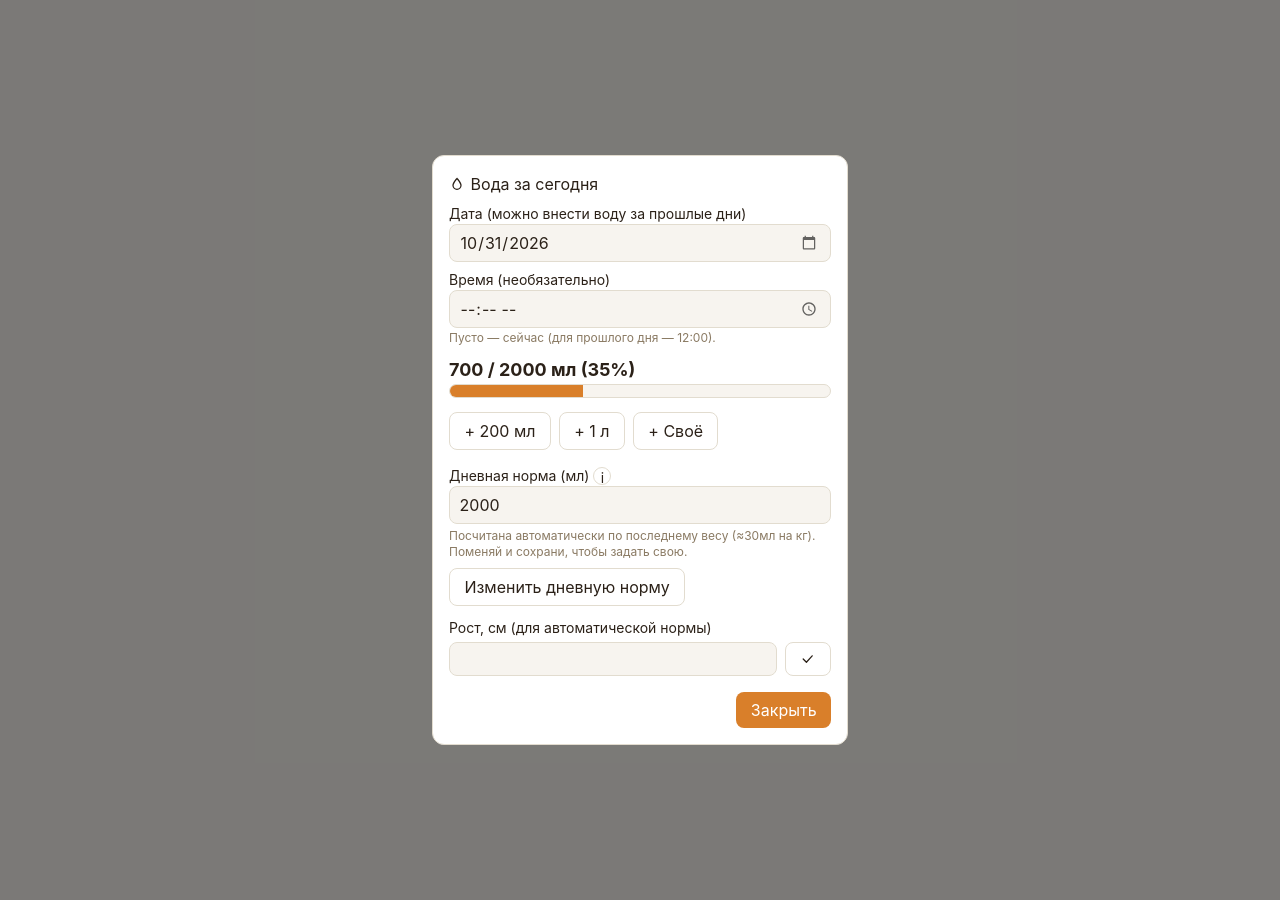
Test case: WaterModal: своё количество воды › «Добавить» шлёт add(мл, дата) и обновляет сумму в окне; поле закрывается
Click the button with test id "add-custom" at (676, 431), box [633,412,718,450]
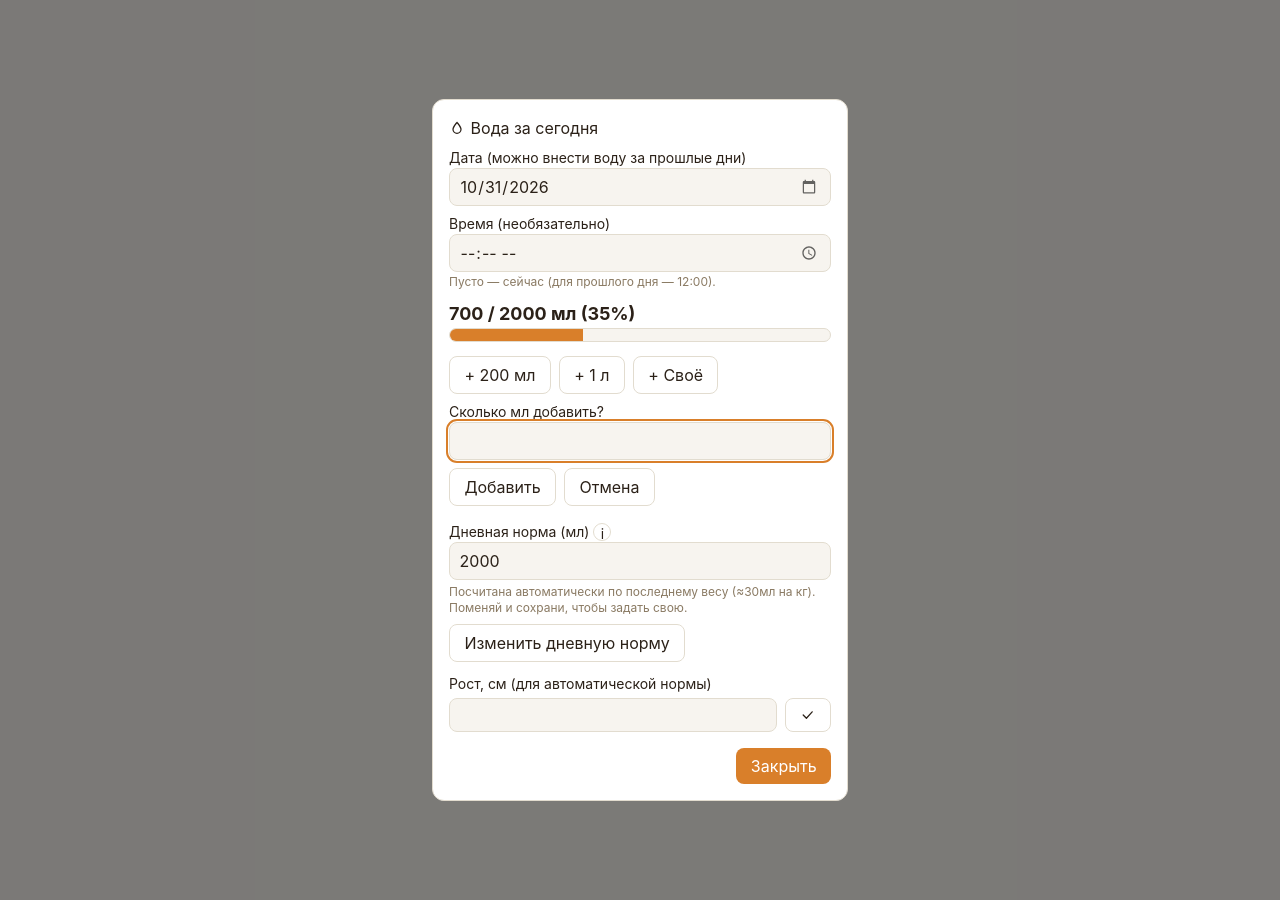
Type "350" into the number field with test id "custom-input" at (640, 441), box [449,422,831,460]
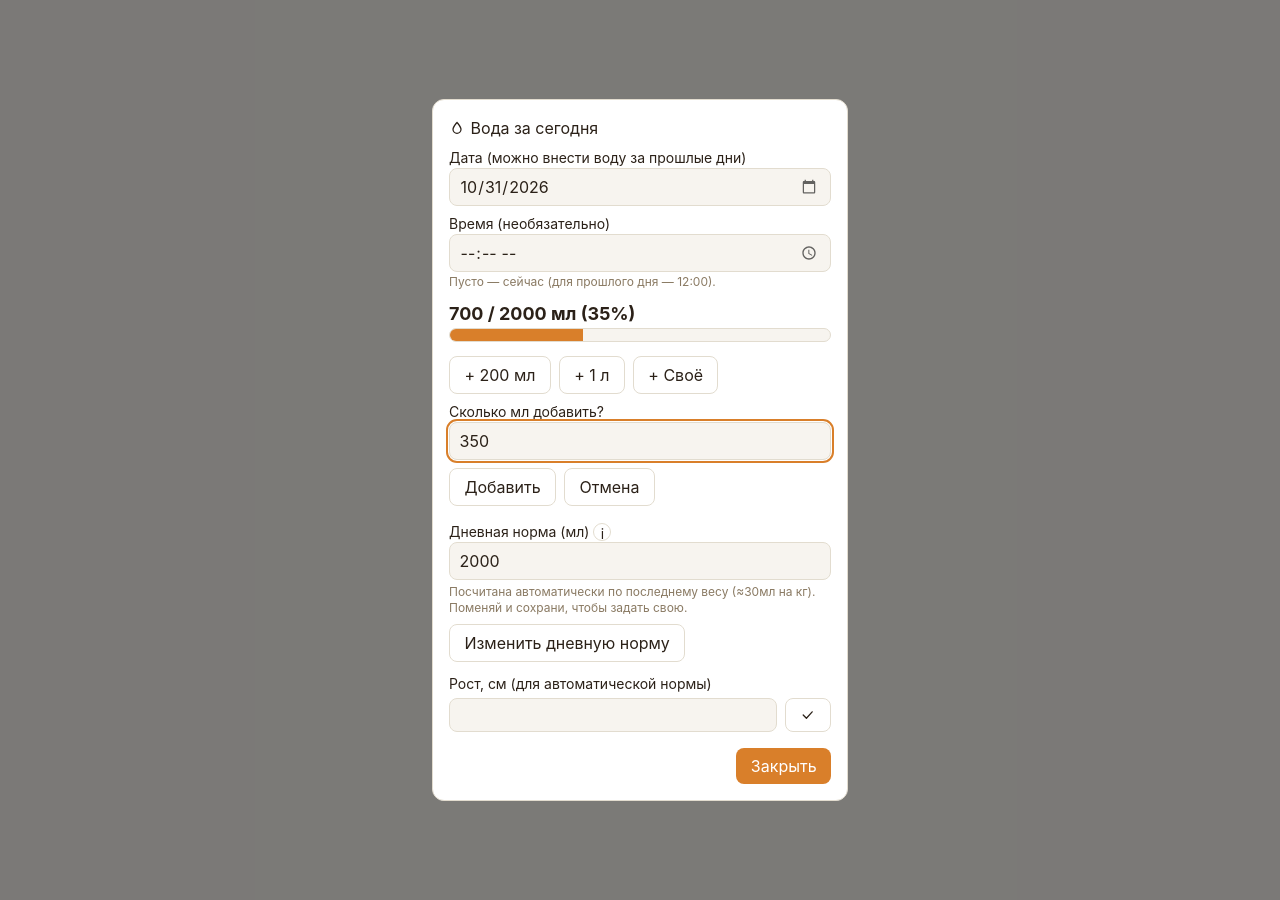
Click the button with test id "custom-add" at (503, 487), box [449,468,556,506]
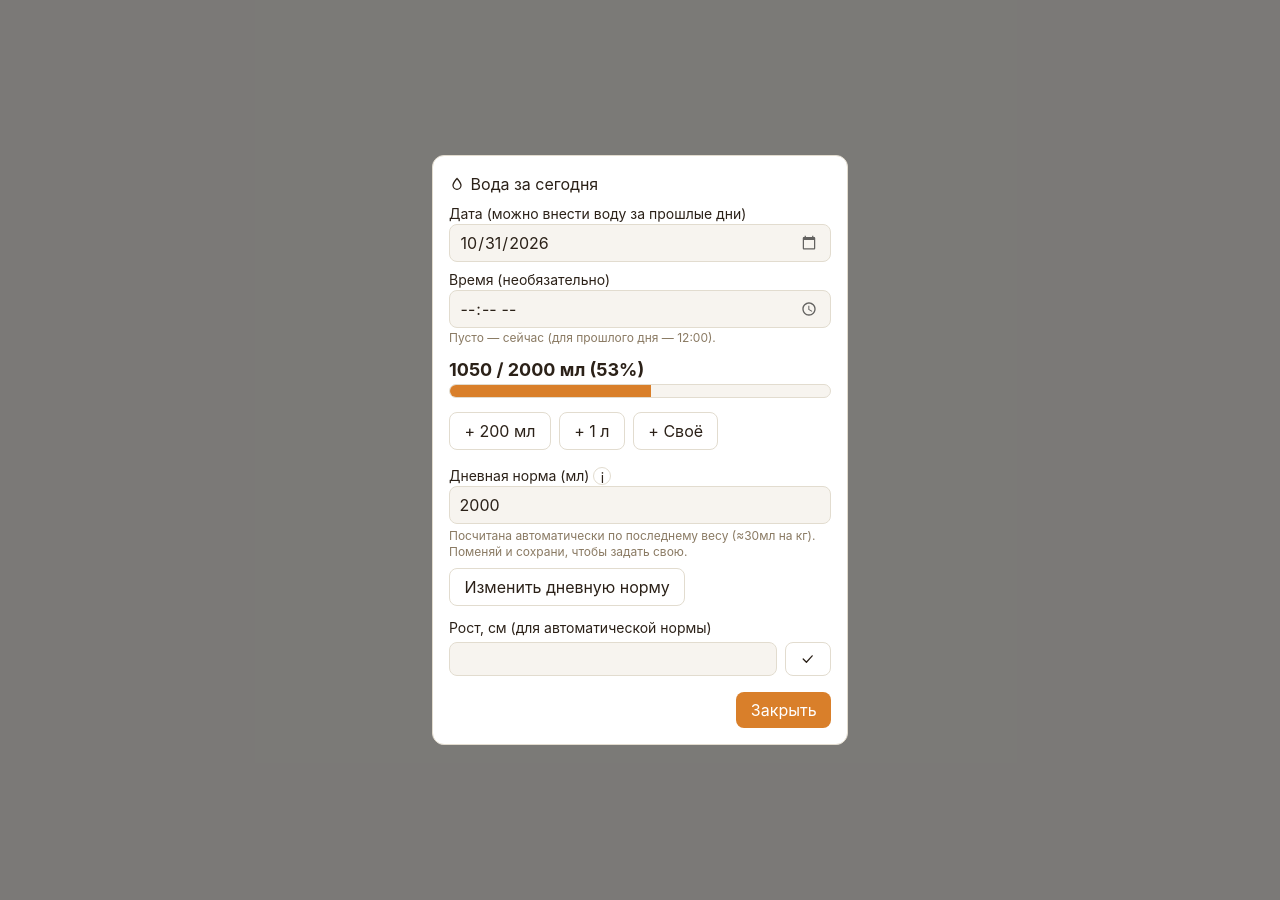
Expected: the text "1050 / 2000" is shown, [449,359,644,380]
